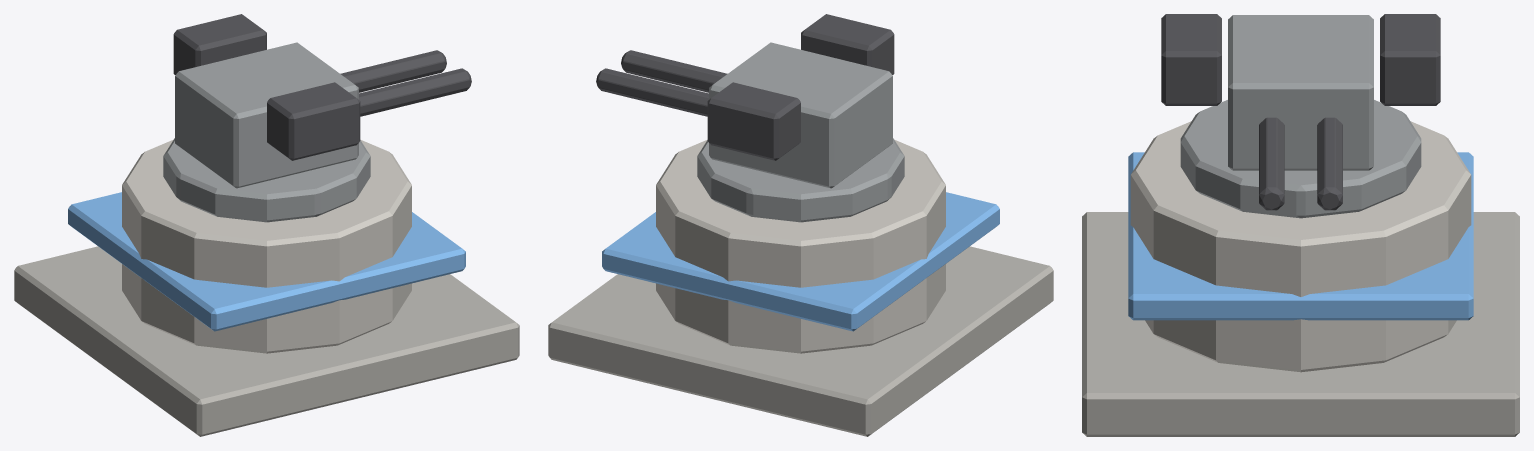
File: sentry_battery.glb
3 views of the same model, side by side, from view 1: azimuth 30°, elevation 25°; view 2: azimuth 150°, elevation 25°; view 3: azimuth 270°, elevation 25° (orthographic). The views are drawn at different scales.
Visible parts, largest first — view 1: Hull, Turret; view 2: Hull, Turret; view 3: Hull, Turret.
Boxes of the visible parts, x1=… form: Hull: x1=14, y1=139, x2=519, y2=436; Turret: x1=163, y1=14, x2=471, y2=222; Hull: x1=548, y1=139, x2=1053, y2=436; Turret: x1=596, y1=14, x2=904, y2=222; Hull: x1=1082, y1=121, x2=1519, y2=436; Turret: x1=1161, y1=14, x2=1440, y2=218.
Bounding box in the file's own units: 1.95 × 1.42 × 1.8.
